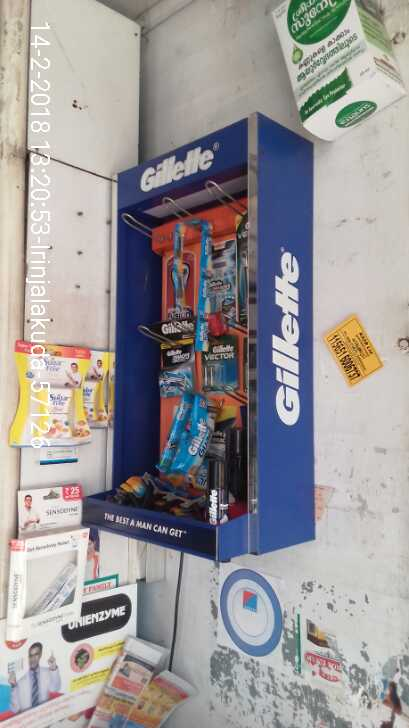gillette: (150, 226, 193, 329), (199, 230, 237, 320), (175, 395, 210, 484), (197, 328, 240, 392), (155, 339, 192, 396)
